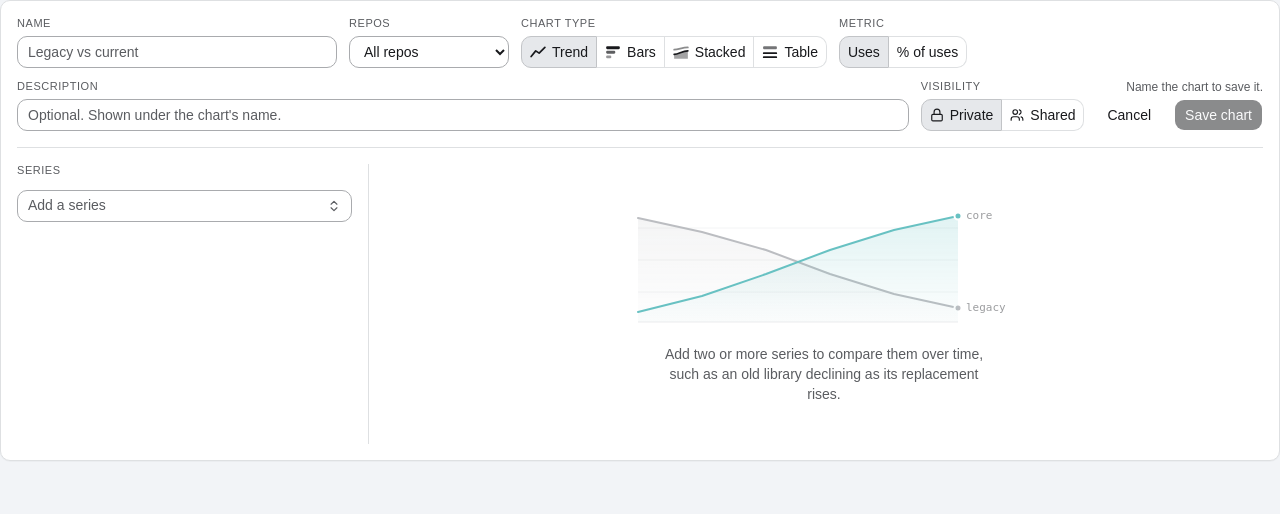
it: chart builder read availability › shows preparing picker data instead of estate-wide options
Select "repo-a" in the dropdown labelled "Repos" at point(429, 52), box [349,36,509,68]
Wait 5000 ms
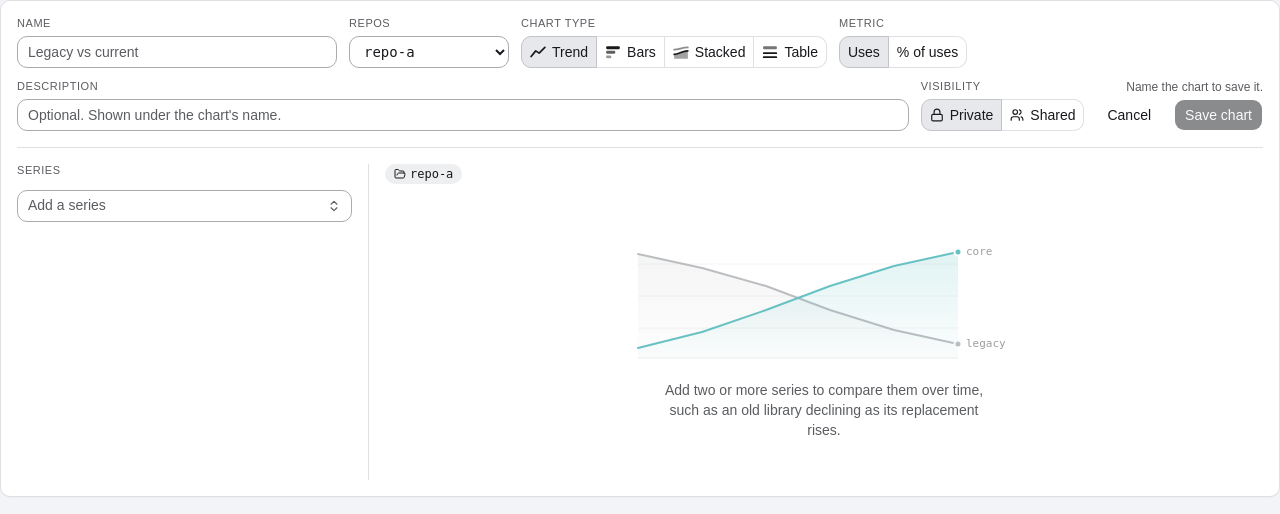
Click the dropdown labelled "Add a series" at point(174, 206), box [28,191,321,221]
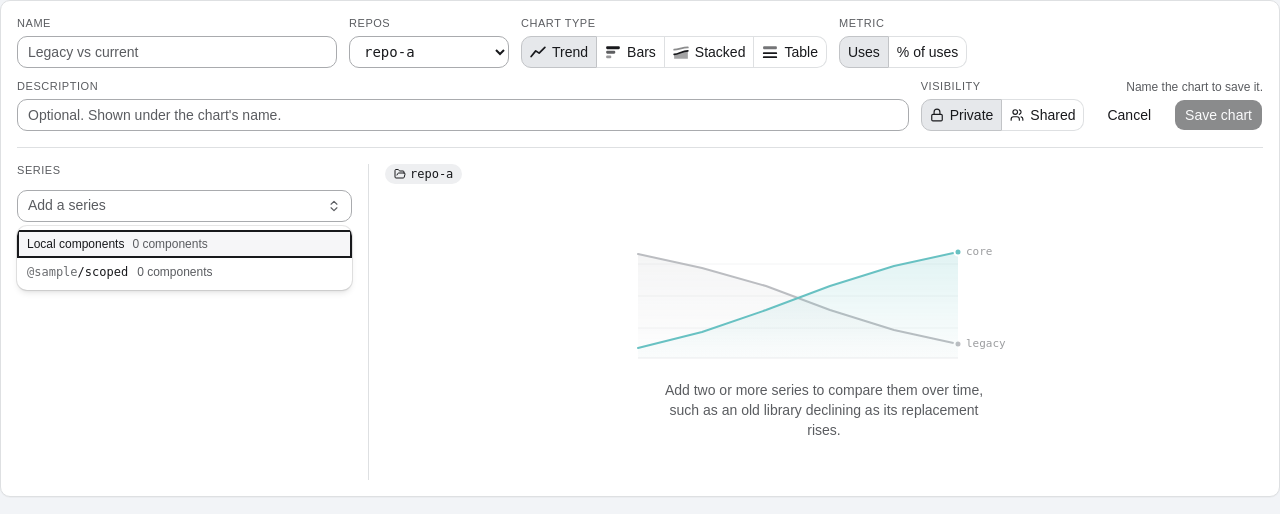
Expected: the option "@sample /scoped 0 components" is shown, [27,265,212,279]
